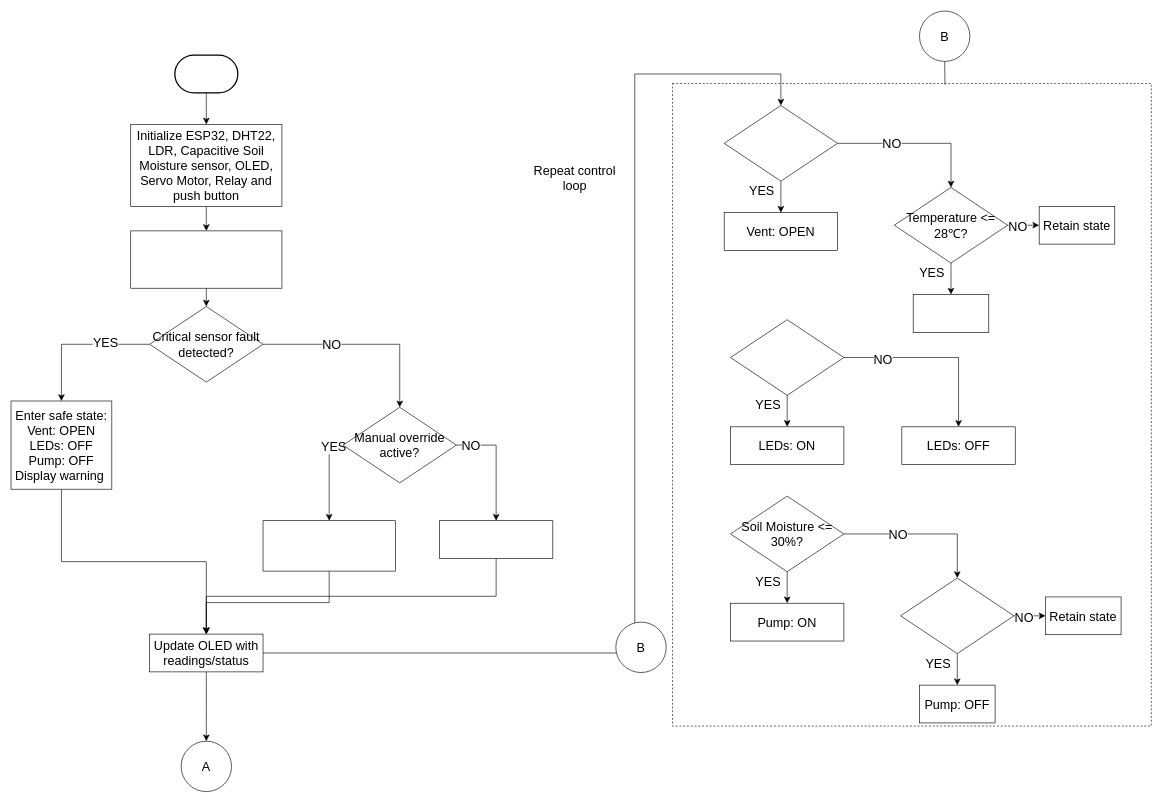
The diagram is 1162 pixels wide and 803 high, and some of its shapes have lost their labels. The shapes that lost their labels are listed below. From the top down, each one's centre as x and y in pixels, then its label:
At (206,73): "START".
At (781,143): "Temperature >= 30℃?".
At (206,259): "Read temperature, humidity, light, and soil moisture".
At (951,313): "Vent: CLOSE".
At (787,357): "Light below threshold?".
At (328,545): "MANUAL OVERRIDE Vent: OPEN".
At (496,539): "AUTONOMOUS CONTROL".
At (957,615): "Soil Moisture >= 40%?".
